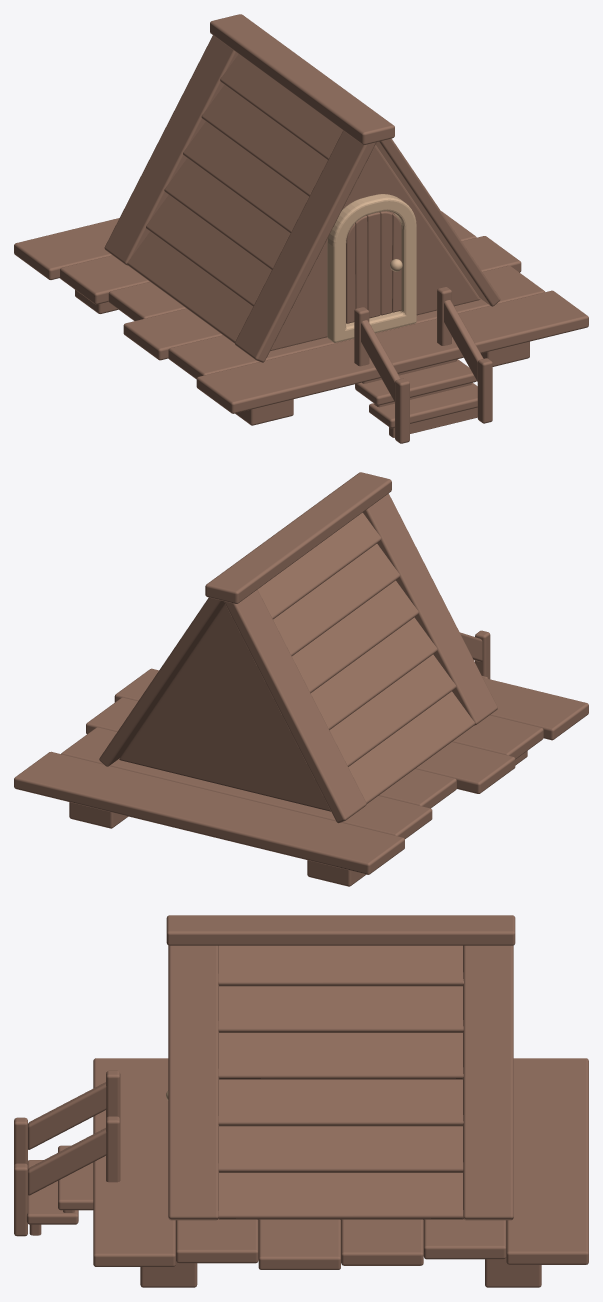
File: Camping-cabin.glb
The picture shows the model from 3 angles, top to bottom: view 1: azimuth 30°, elevation 25°; view 2: azimuth 150°, elevation 25°; view 3: azimuth 270°, elevation 25°; orthographic projection. The views are drawn at different scales.
Visible parts, largest first — view 1: cabin_roof, floor, cabin_support_side, Cabin_base, cabin_rooftop, door_frame, door, stair, stair_handle, stair_frontpole, floor_support, stair_backpole (+1 smaller); view 2: floor, cabin_roof, cabin_support_side, Cabin_base, cabin_rooftop, floor_support; view 3: cabin_roof, floor, cabin_support_side, cabin_rooftop, stair_handle, stair, floor_support, stair_backpole, stair_frontpole.
Part boxes in pixels (x1=…): cabin_roof: x1=127, y1=54, x2=342, y2=343; floor: x1=14, y1=211, x2=588, y2=413; cabin_support_side: x1=104, y1=35, x2=500, y2=362; Cabin_base: x1=270, y1=144, x2=480, y2=351; cabin_rooftop: x1=210, y1=14, x2=394, y2=144; door_frame: x1=327, y1=194, x2=416, y2=342; door: x1=346, y1=211, x2=401, y2=323; stair: x1=355, y1=359, x2=477, y2=428; stair_handle: x1=361, y1=300, x2=483, y2=401; stair_frontpole: x1=395, y1=358, x2=492, y2=443; floor_support: x1=75, y1=290, x2=529, y2=425; stair_backpole: x1=354, y1=287, x2=451, y2=366; floor: x1=14, y1=668, x2=588, y2=874; cabin_roof: x1=257, y1=512, x2=474, y2=803; cabin_support_side: x1=99, y1=493, x2=497, y2=823; Cabin_base: x1=119, y1=604, x2=330, y2=811; cabin_rooftop: x1=205, y1=472, x2=391, y2=603; floor_support: x1=69, y1=751, x2=527, y2=886; cabin_roof: x1=218, y1=945, x2=463, y2=1219; floor: x1=93, y1=1058, x2=588, y2=1269; cabin_support_side: x1=168, y1=945, x2=513, y2=1220; cabin_rooftop: x1=166, y1=915, x2=515, y2=945; stair_handle: x1=28, y1=1082, x2=106, y2=1195; stair: x1=26, y1=1145, x2=93, y2=1224; floor_support: x1=140, y1=1257, x2=541, y2=1287; stair_backpole: x1=106, y1=1070, x2=120, y2=1182; stair_frontpole: x1=14, y1=1117, x2=27, y2=1236.
Size of the model in its own units: 3.18 by 2.13 by 3.86.
